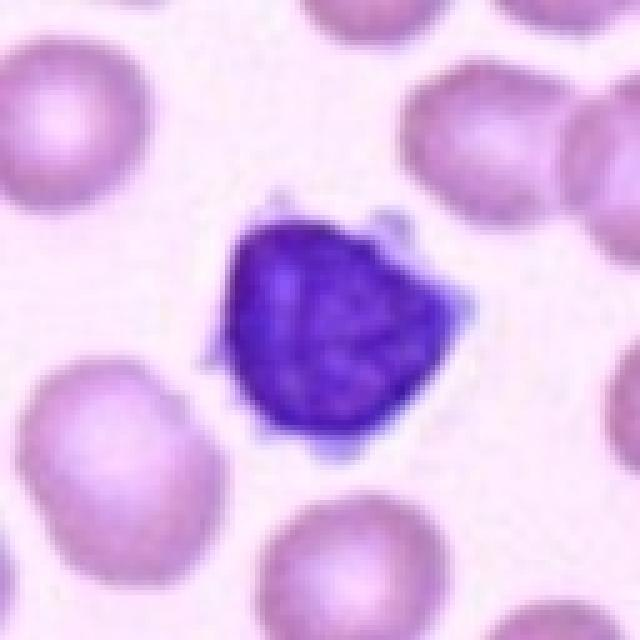lympho: (198, 179, 482, 467)
